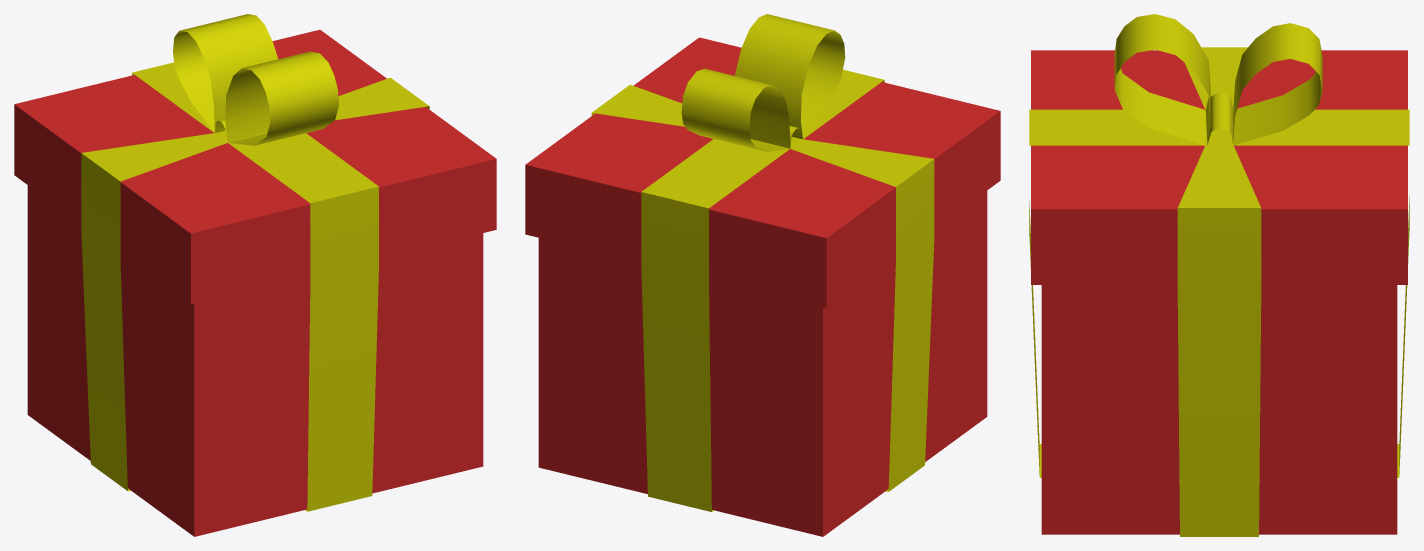
The model's file is PresentCube.fbx.
3 views of the same model, side by side, from view 1: azimuth 30°, elevation 25°; view 2: azimuth 150°, elevation 25°; view 3: azimuth 270°, elevation 25° (orthographic). The views are drawn at different scales.
Parts seen in each view (by area): view 1: pBox, pRibbon, pLid, pRibbonReversed; view 2: pBox, pRibbon, pLid, pRibbonReversed; view 3: pBox, pLid, pRibbon, pRibbonReversed.
Part boxes in pixels (left/top/right/bottom): pBox: left=27, top=185, right=483, bottom=536; pRibbon: left=81, top=14, right=429, bottom=511; pLid: left=14, top=29, right=496, bottom=304; pRibbonReversed: left=177, top=14, right=332, bottom=145; pBox: left=538, top=191, right=987, bottom=536; pRibbon: left=591, top=14, right=934, bottom=511; pLid: left=525, top=37, right=1000, bottom=307; pRibbonReversed: left=682, top=14, right=844, bottom=147; pBox: left=1041, top=285, right=1397, bottom=534; pLid: left=1031, top=50, right=1407, bottom=284; pRibbon: left=1029, top=14, right=1409, bottom=536; pRibbonReversed: left=1114, top=15, right=1321, bottom=143.
Bounding box in the file's own units: 14.37 × 17.88 × 14.37.
